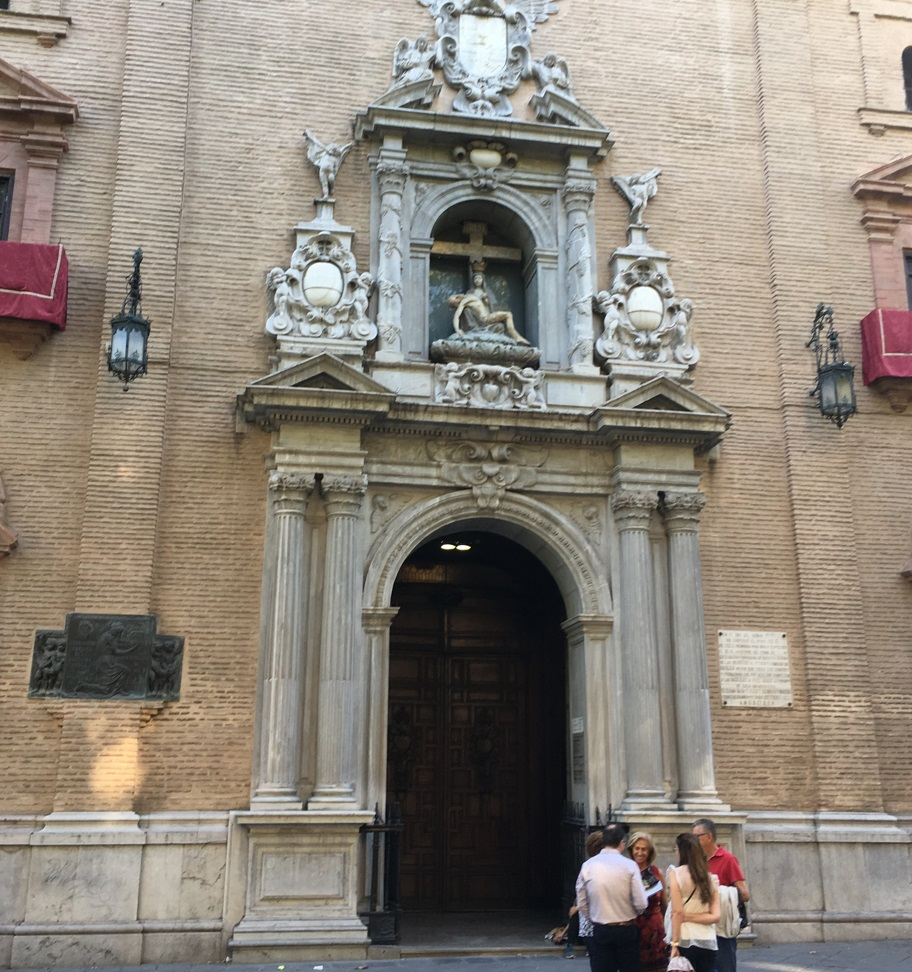arco-medio-punto: (379, 510, 595, 659), (421, 194, 547, 274)
fronton: (244, 351, 398, 404), (600, 374, 736, 427)
fronton-partido: (360, 79, 614, 145)
